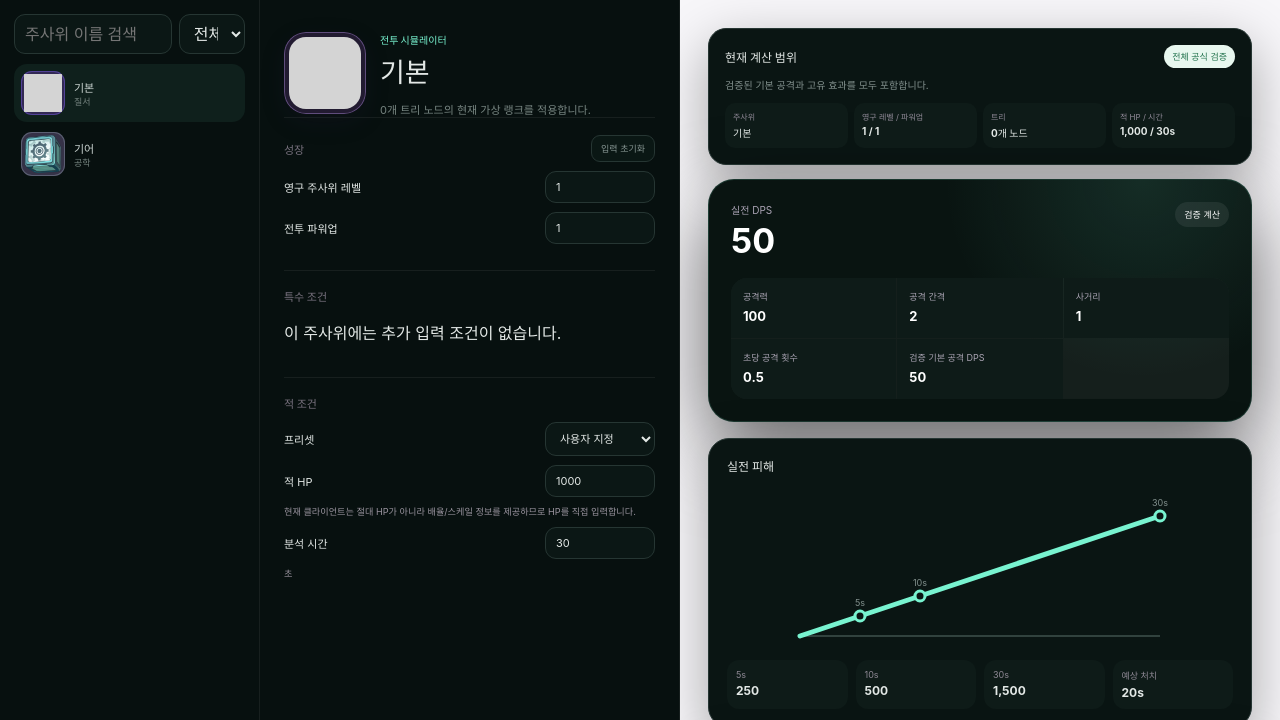
SimulatorView › supports canonical dice search and editable enemy inputs
Type "기어" into the field named "주사위 검색".
click(93, 34); type("기어")  # box [14, 14, 172, 54]
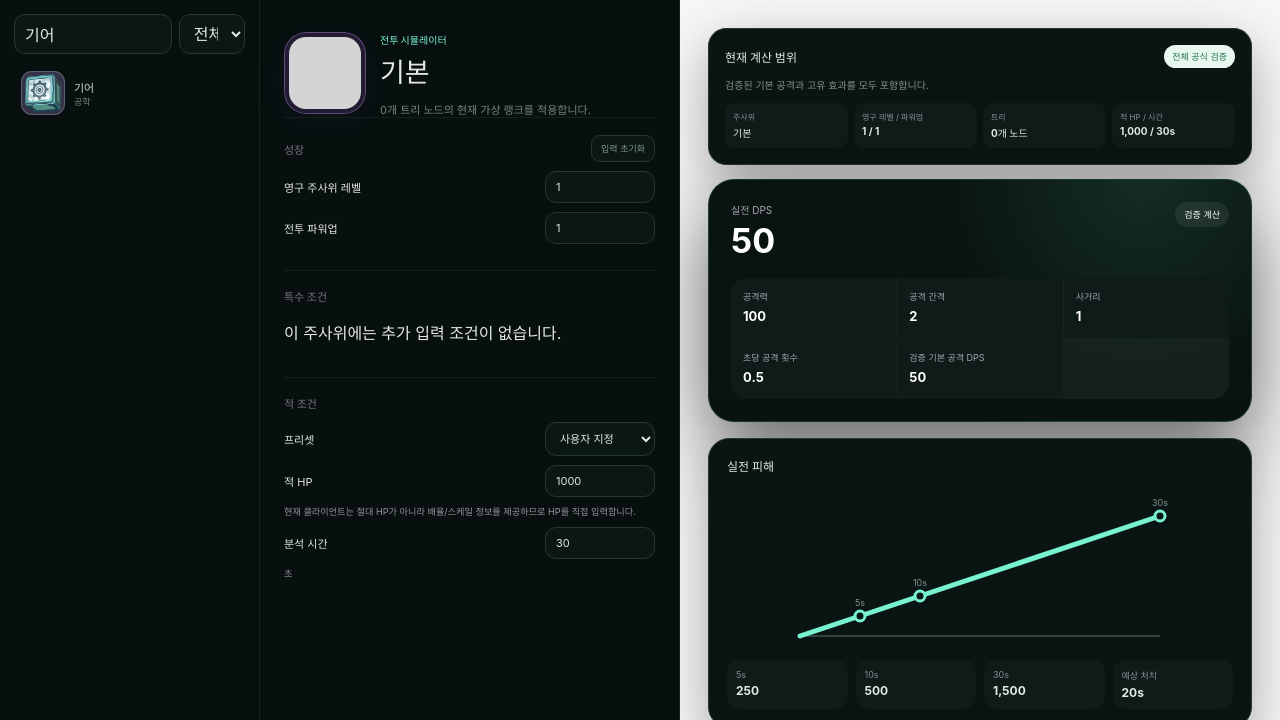
Expected: the number of options is 1, [14, 64, 245, 122]
Replace the text in the number field labelled "적 HP" with "2000" at (600, 481), box [545, 465, 655, 497]
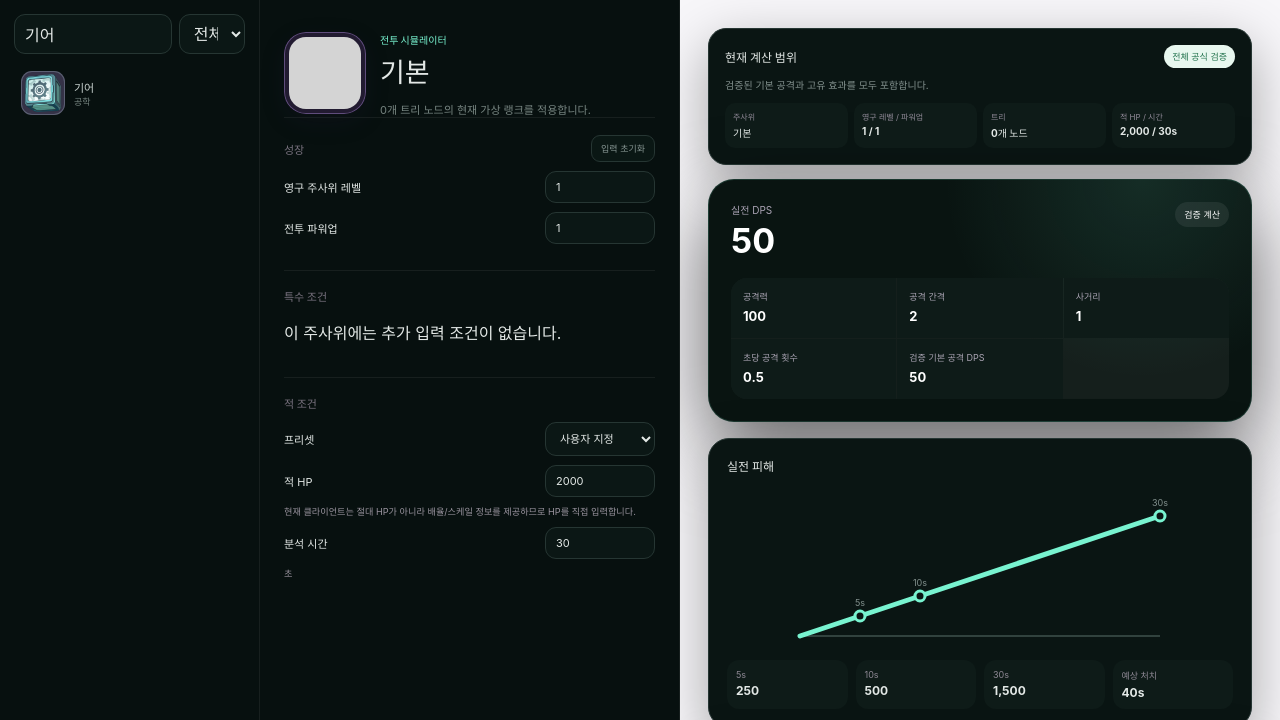
Result: the element with test id "v3-damage-graph" shows "40s" at [1122, 685, 1144, 700]
Clear the number field labelled "적 HP" at (600, 481), box [545, 465, 655, 497]
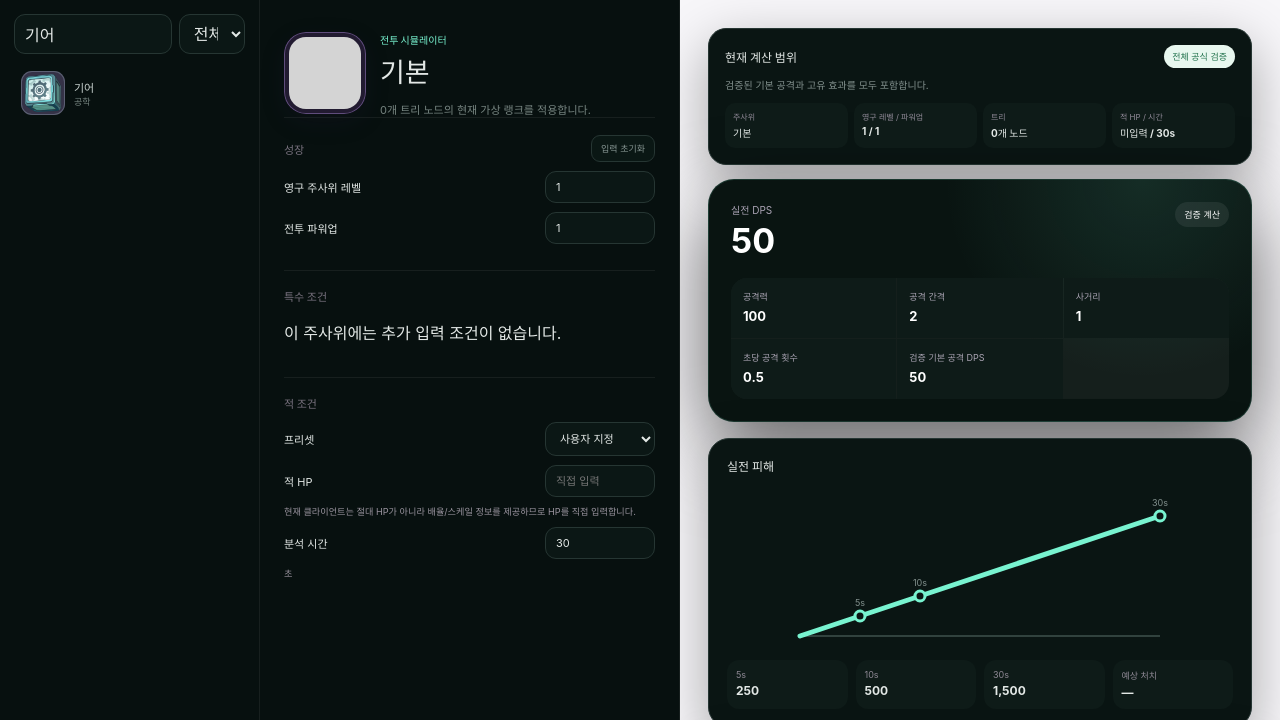
Result: the element with test id "v45-scenario-summary" shows "미입력" at [1120, 127, 1148, 139]
Replace the text in the number field labelled "영구 주사위 레벨" with "5" at (600, 187), box [545, 171, 655, 203]
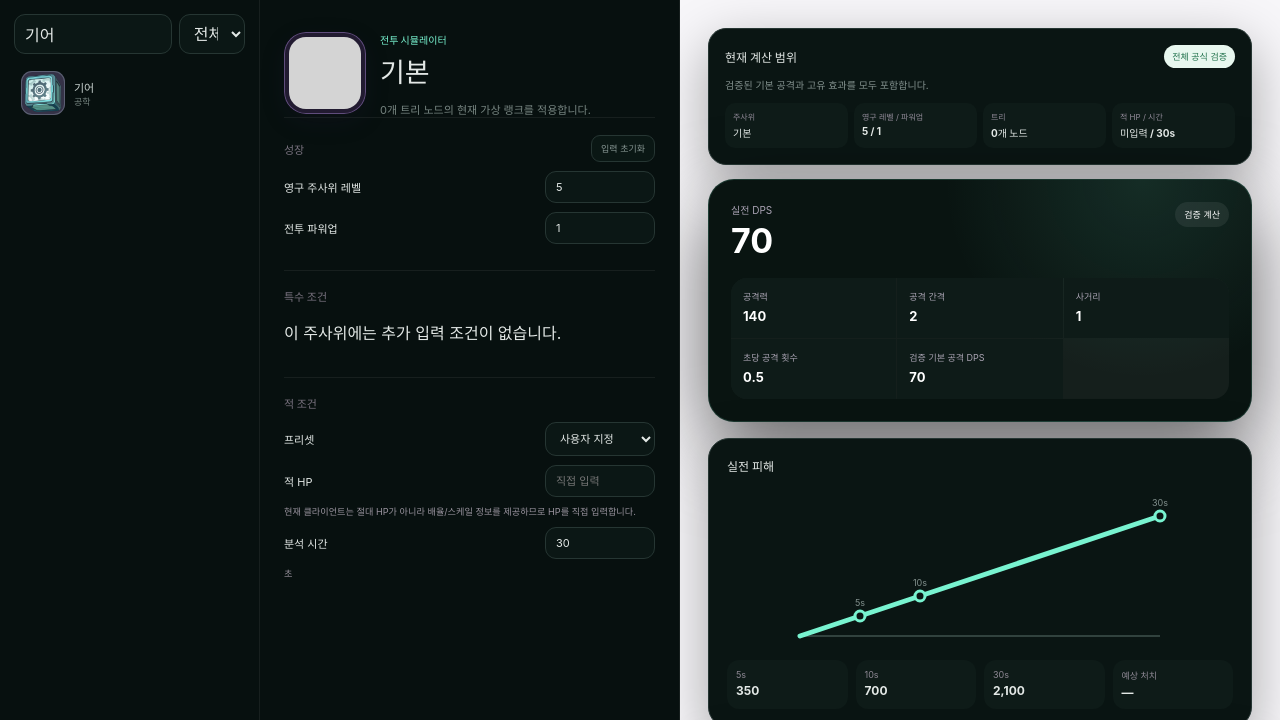
Click the button "입력 초기화".
click(623, 148)  # box [591, 135, 655, 162]
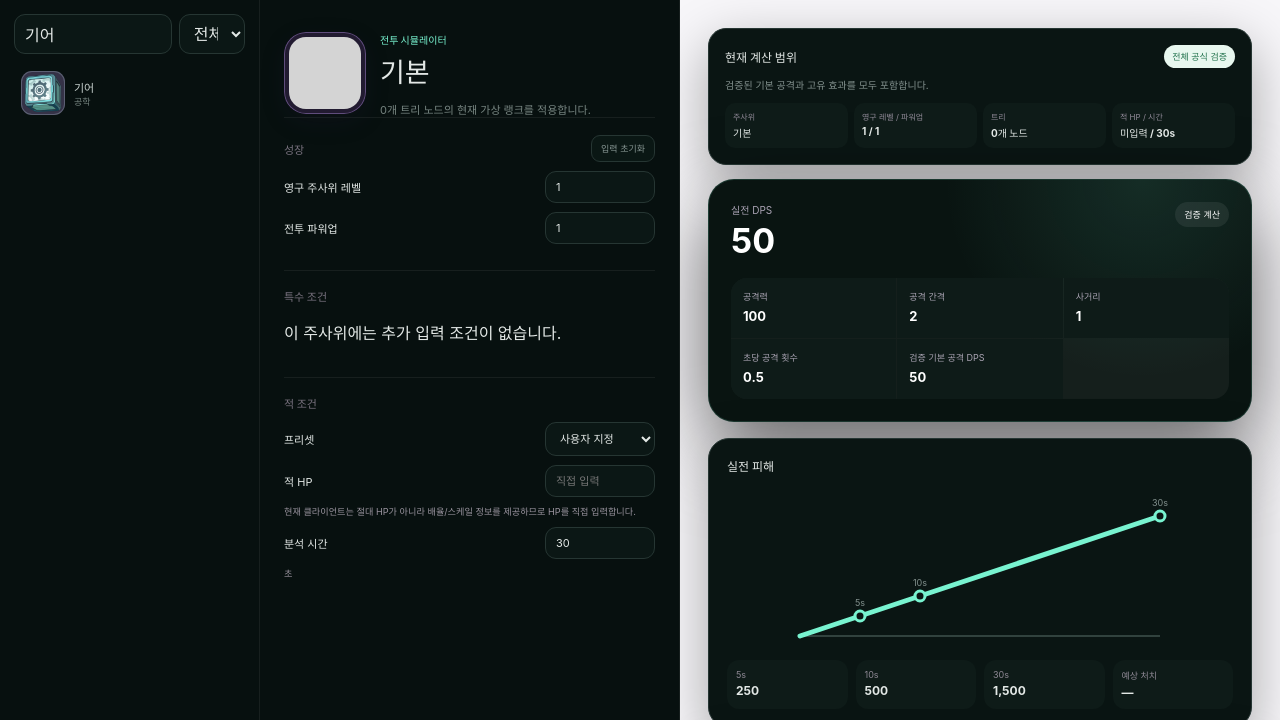
Result: the number field labelled "영구 주사위 레벨" holds "1" at [545, 171, 655, 203]
